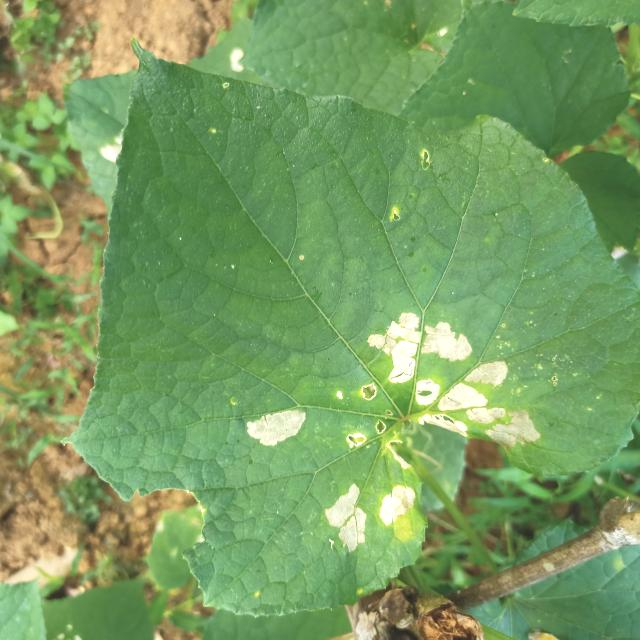disease_cucumber: (361, 311, 542, 452), (322, 482, 368, 554), (245, 403, 310, 449), (376, 482, 416, 527), (344, 416, 389, 452)
